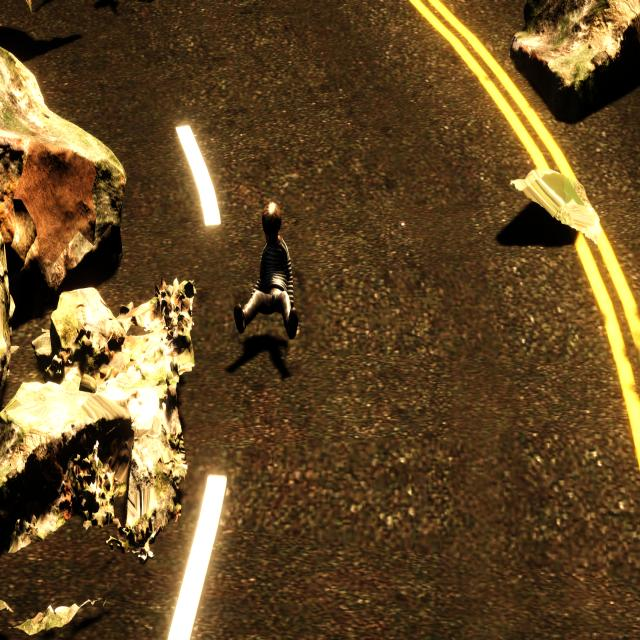Human: (231, 196, 304, 345)
